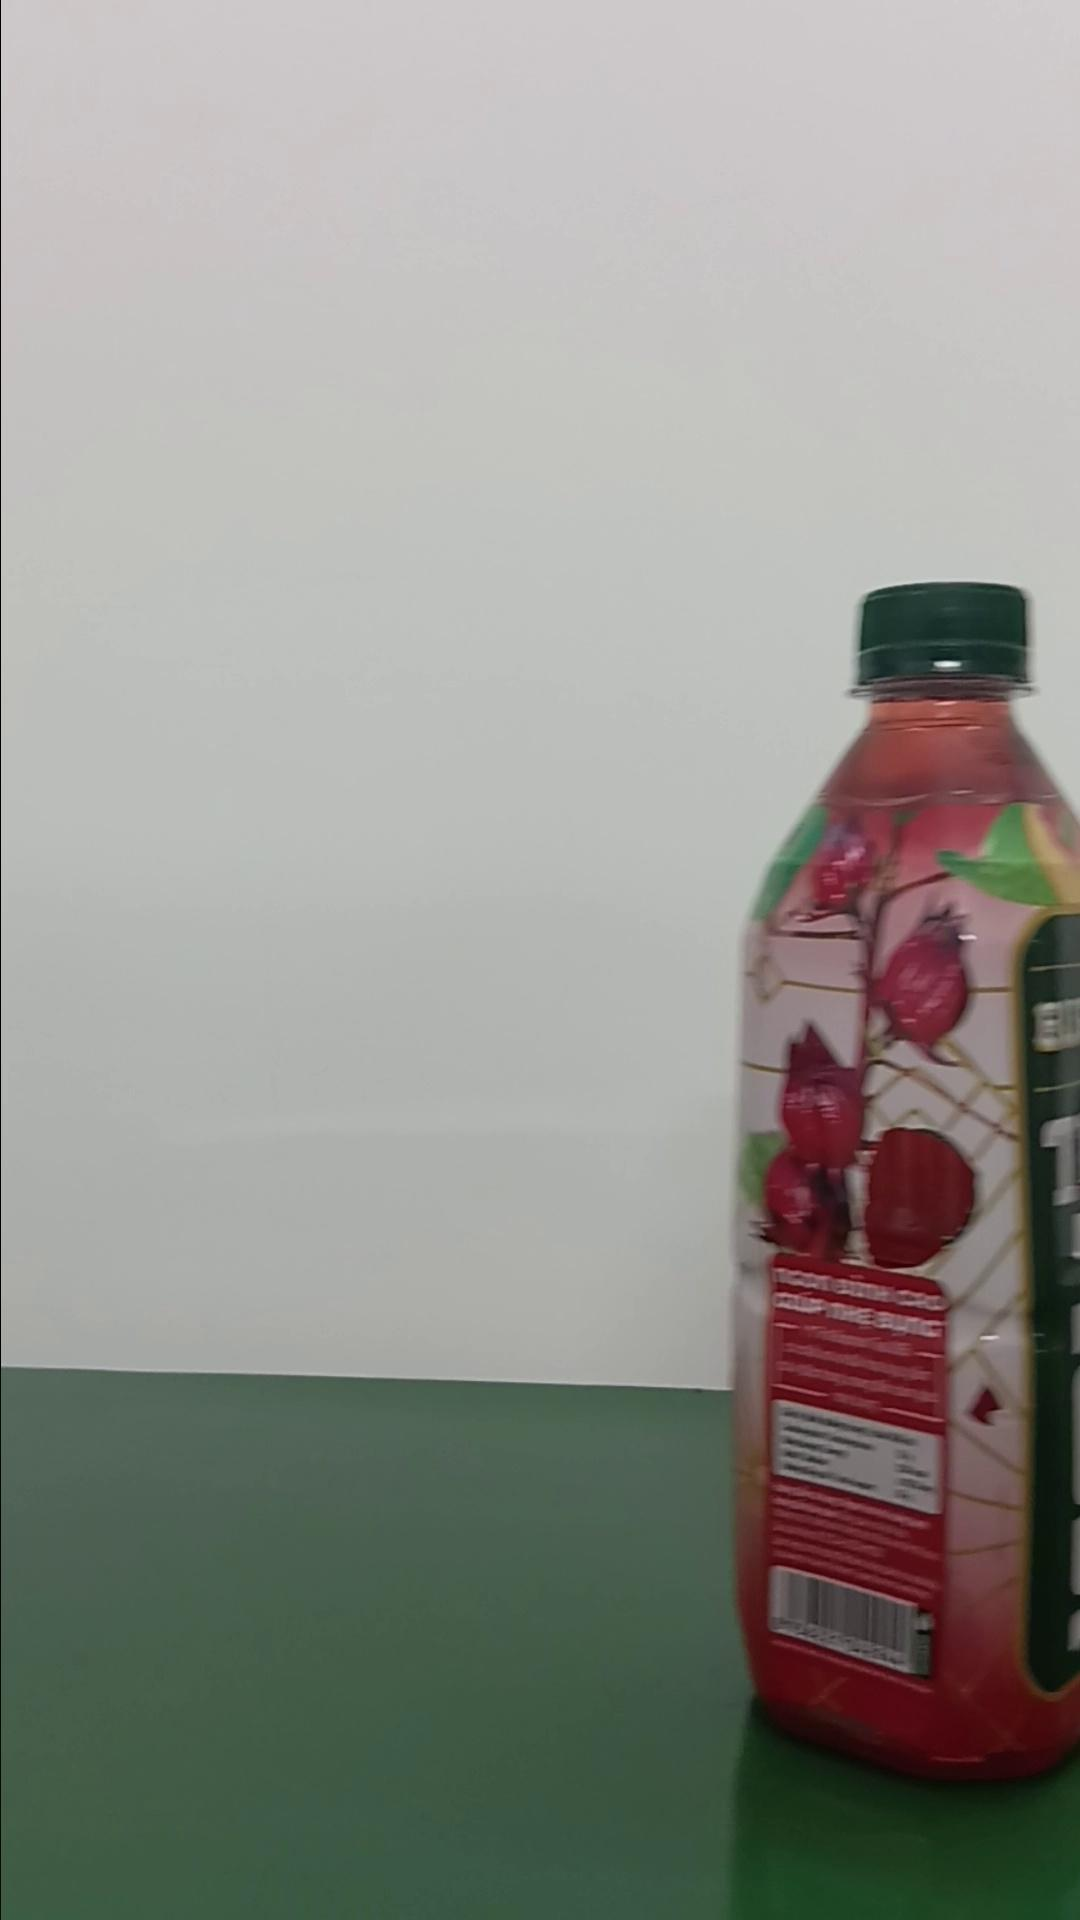loi rach va lap chai: (724, 580, 1077, 1811)
